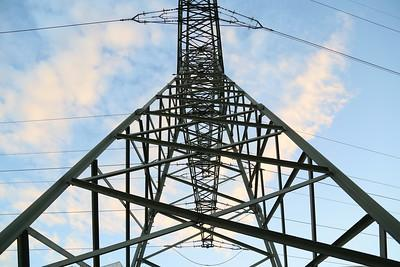power_tower: (10, 1, 400, 267)
